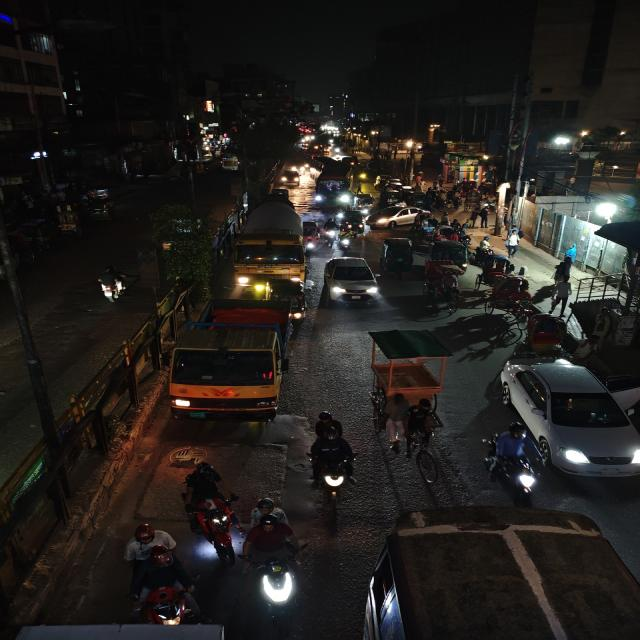bus: (310, 157, 354, 208)
car: (498, 358, 640, 484), (321, 255, 380, 308), (370, 205, 403, 229), (278, 168, 302, 186)
cng: (379, 236, 416, 274), (83, 196, 118, 223), (342, 208, 368, 236), (353, 192, 377, 215)
motorcycle: (239, 500, 306, 637), (300, 410, 360, 506), (173, 458, 240, 540), (480, 426, 539, 504), (93, 264, 128, 304), (302, 220, 321, 254), (322, 217, 341, 247), (336, 227, 354, 253)
pedestrian: (553, 254, 574, 284), (504, 229, 524, 257), (477, 235, 495, 258)
pickup_van: (165, 298, 299, 426)
rickshaw: (368, 349, 452, 469), (517, 312, 580, 358), (476, 273, 526, 313), (429, 240, 470, 275), (53, 208, 83, 238)
truck: (233, 198, 307, 290)
